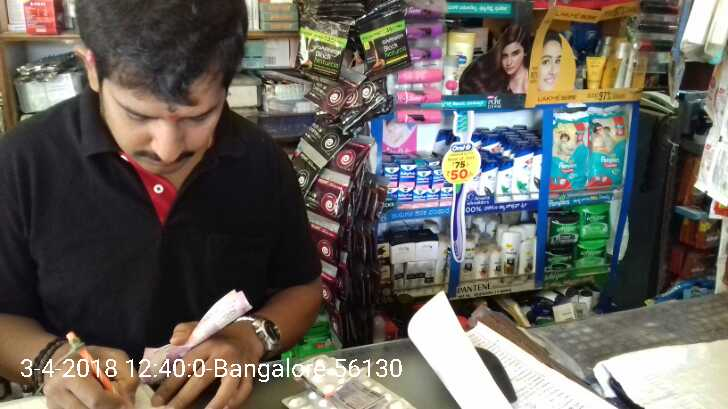vicks: (440, 186, 454, 209), (411, 189, 426, 210), (384, 160, 397, 184), (400, 166, 415, 186), (426, 189, 440, 209), (415, 170, 431, 186), (400, 188, 411, 210), (432, 169, 445, 184)
